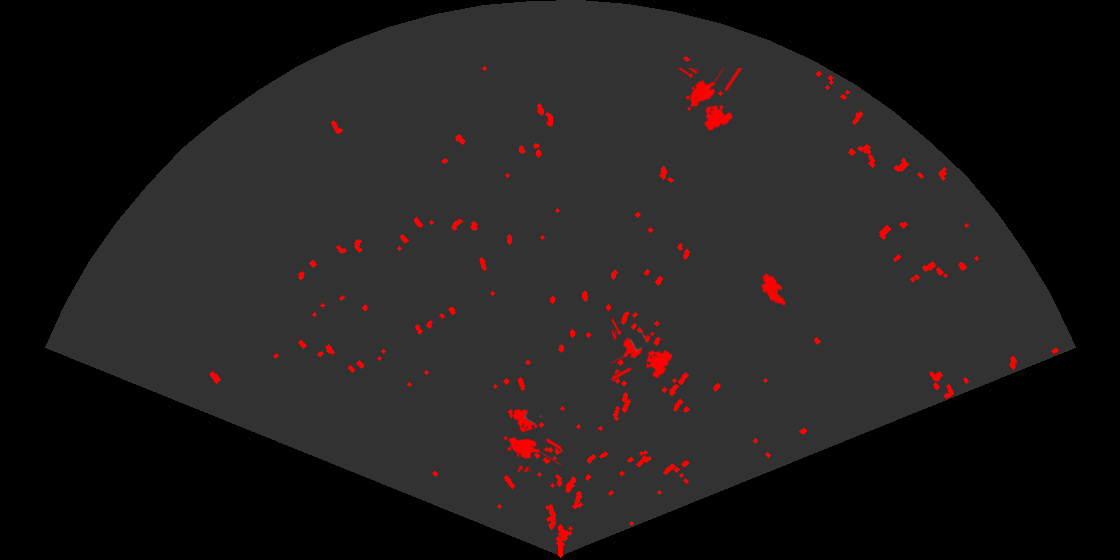AUV: (760, 272, 787, 307)
cage: (676, 68, 744, 132), (612, 316, 674, 382), (502, 407, 561, 472)
